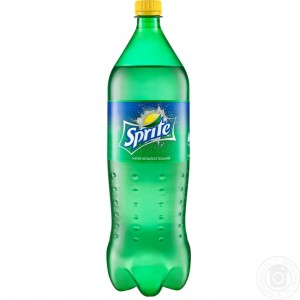Sprite: (86, 5, 209, 296)
